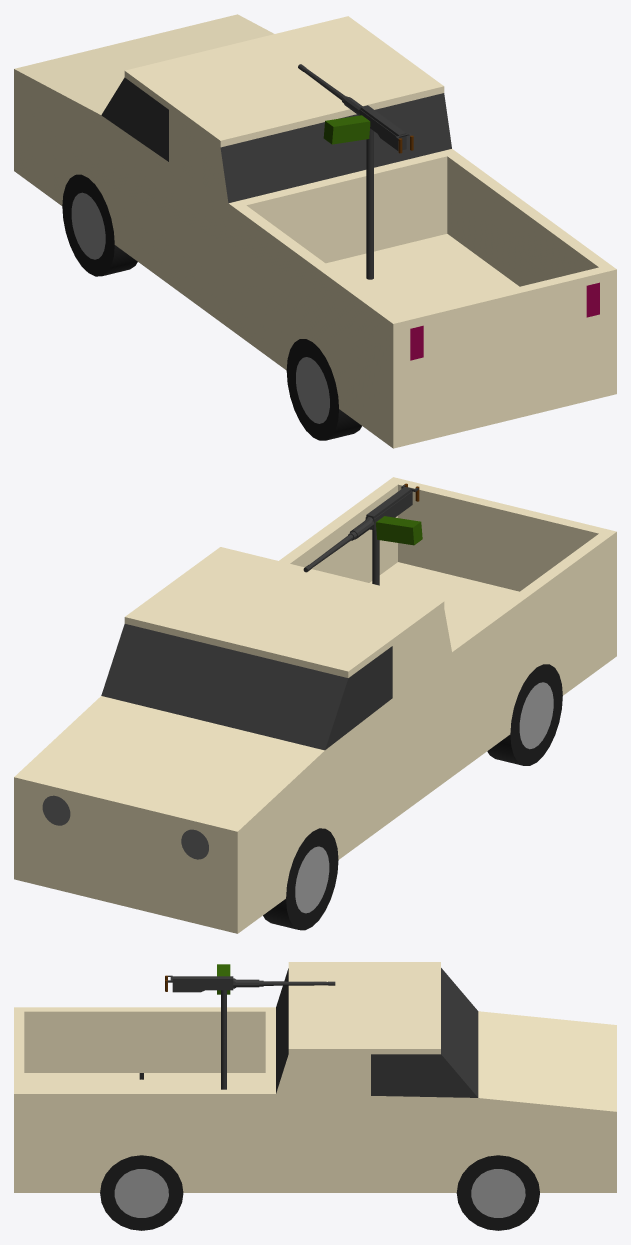
File: pickup.dae
3 views of the same model, one above another, from view 1: azimuth 30°, elevation 25°; view 2: azimuth 150°, elevation 25°; view 3: azimuth 270°, elevation 25° (orthographic). The views are drawn at different scales.
Visible parts, largest first — view 1: instance_0 (×4), instance_1 (×2), instance_2 (×2), instance_9, instance_10, instance_7; view 2: instance_0 (×5), instance_1 (×2), instance_2 (×2), instance_10, instance_7; view 3: instance_0 (×4), instance_3 (×2), instance_4 (×2), instance_7, instance_9.
Part boxes in pixels (<box>): instance_0 (×4): <box>14,14,616,448</box>; instance_1 (×2): <box>62,174,137,276</box>; instance_2 (×2): <box>286,339,361,440</box>; instance_9: <box>366,128,373,279</box>; instance_10: <box>323,115,370,144</box>; instance_7: <box>360,105,406,151</box>; instance_0 (×5): <box>14,477,616,933</box>; instance_1 (×2): <box>263,828,338,930</box>; instance_2 (×2): <box>487,664,562,765</box>; instance_10: <box>376,516,422,545</box>; instance_7: <box>365,487,412,530</box>; instance_0 (×4): <box>14,962,616,1192</box>; instance_3 (×2): <box>100,1155,183,1230</box>; instance_4 (×2): <box>456,1155,539,1230</box>; instance_7: <box>172,976,233,992</box>; instance_9: <box>221,990,226,1089</box>.
Bounding box in the file's own units: 79 × 232 × 88.59.
